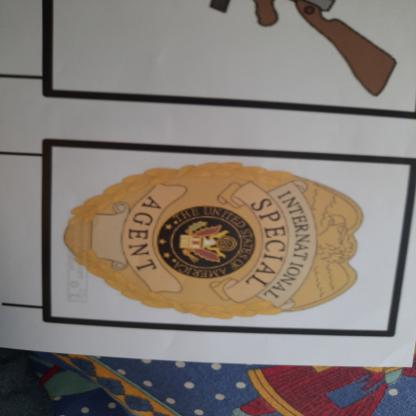G-man: (46, 147, 375, 326)
